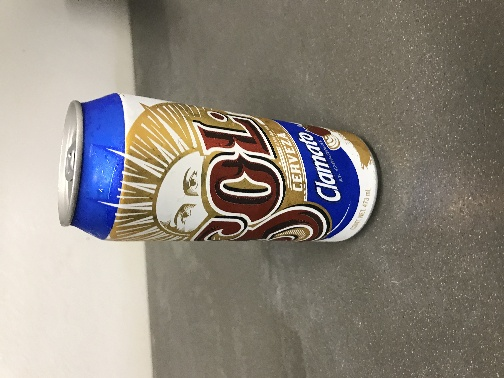SCL: (39, 67, 276, 176)
